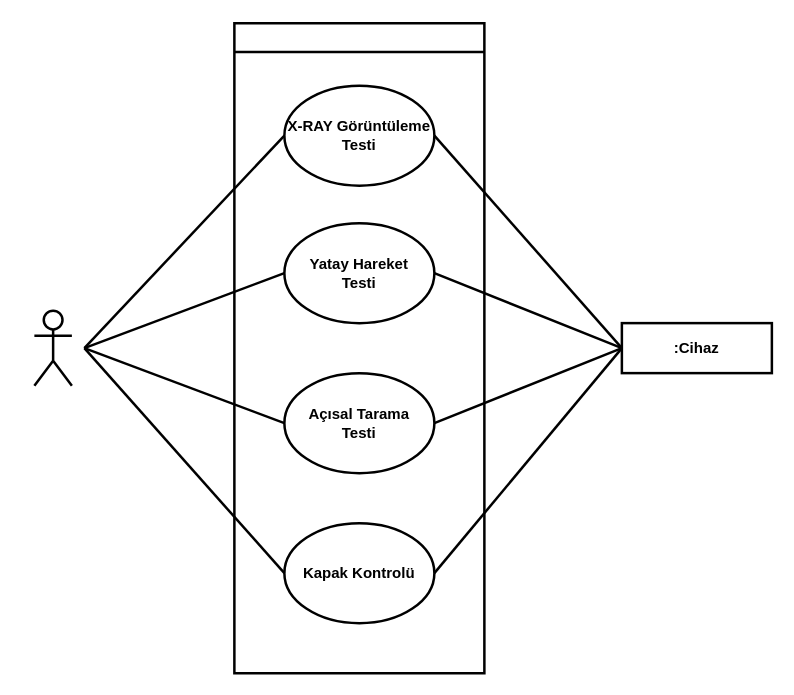
Image size: 794x695. Some labels were removed from this diagram. Here are the shapes that lost their labels. From the top down, the box of each, then its label:
(32, 309, 72, 386): Kullanıcı
(232, 21, 485, 674): CİHAZ TESTİ
